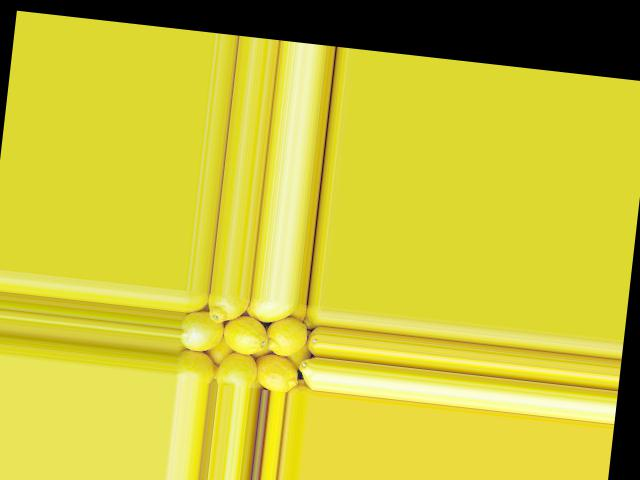lemon: (182, 292, 207, 315)
